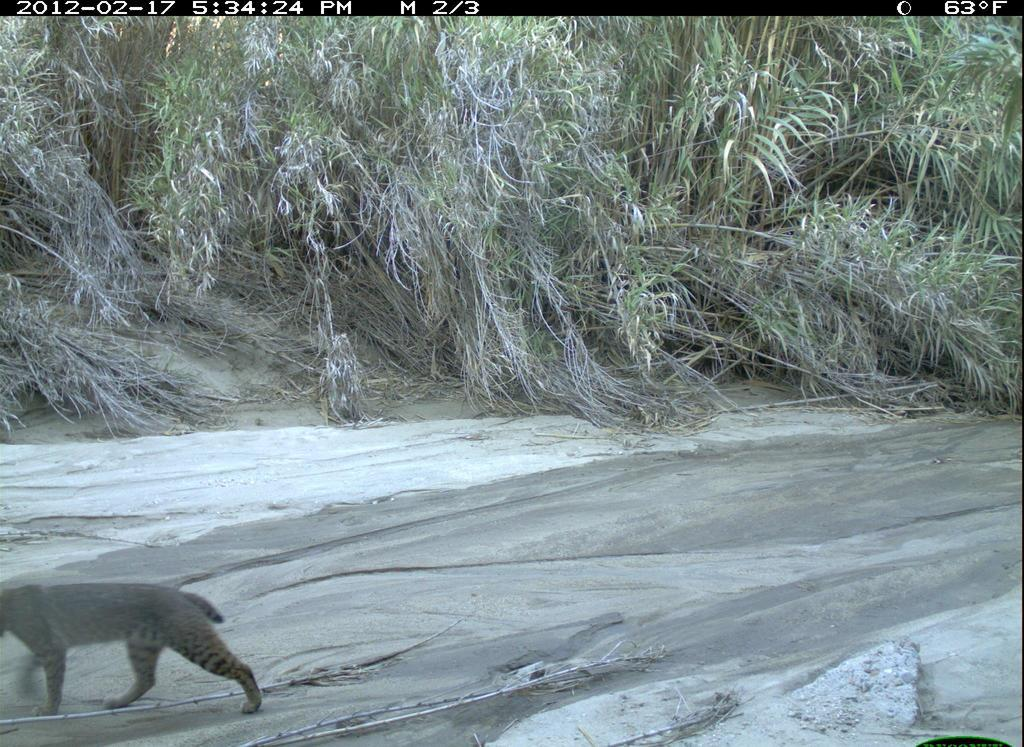bobcat: (2, 578, 277, 721)
